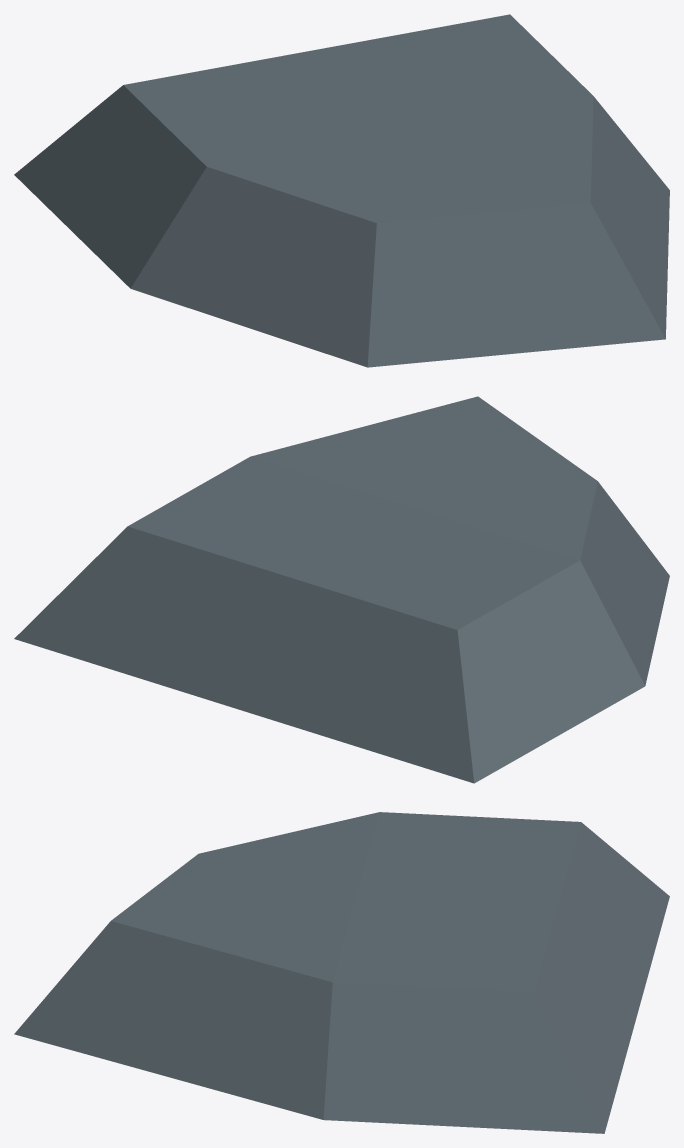
Rendered from rock-013.glb.
The picture shows the model from 3 angles, top to bottom: view 1: azimuth 30°, elevation 25°; view 2: azimuth 150°, elevation 25°; view 3: azimuth 270°, elevation 25°; orthographic projection. The views are drawn at different scales.
Visible parts, largest first — view 1: stone 13_12; view 2: stone 13_12; view 3: stone 13_12.
Boxes of the visible parts, x1,y1,x2,y2 form: stone 13_12: (14,14,669,367); stone 13_12: (14,396,669,783); stone 13_12: (14,812,669,1133).
Size of the model in its own units: 0.6958 by 0.1529 by 0.7674.
